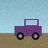vehicle: (14, 19, 41, 40)
